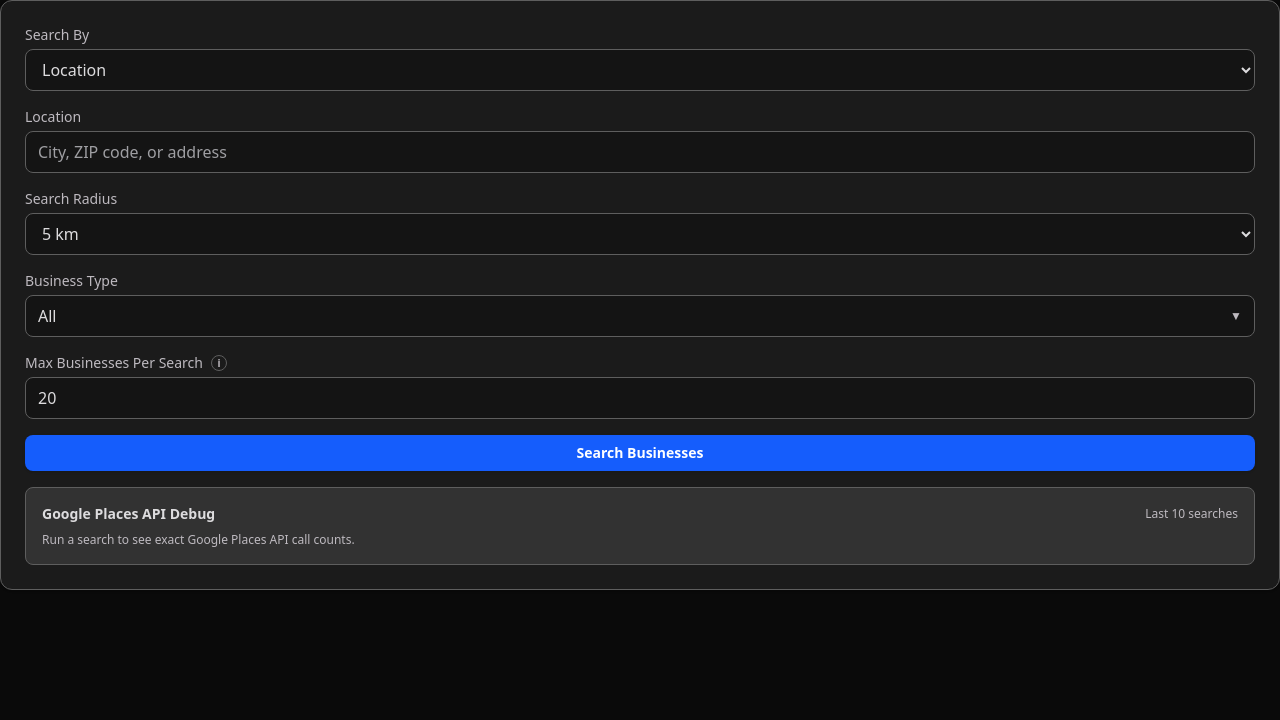
SearchForm › removes excluded business types from the search dropdown after filtered options load
Click the button with aria-label "business type" at (47, 316), box [25,295,1255,337]
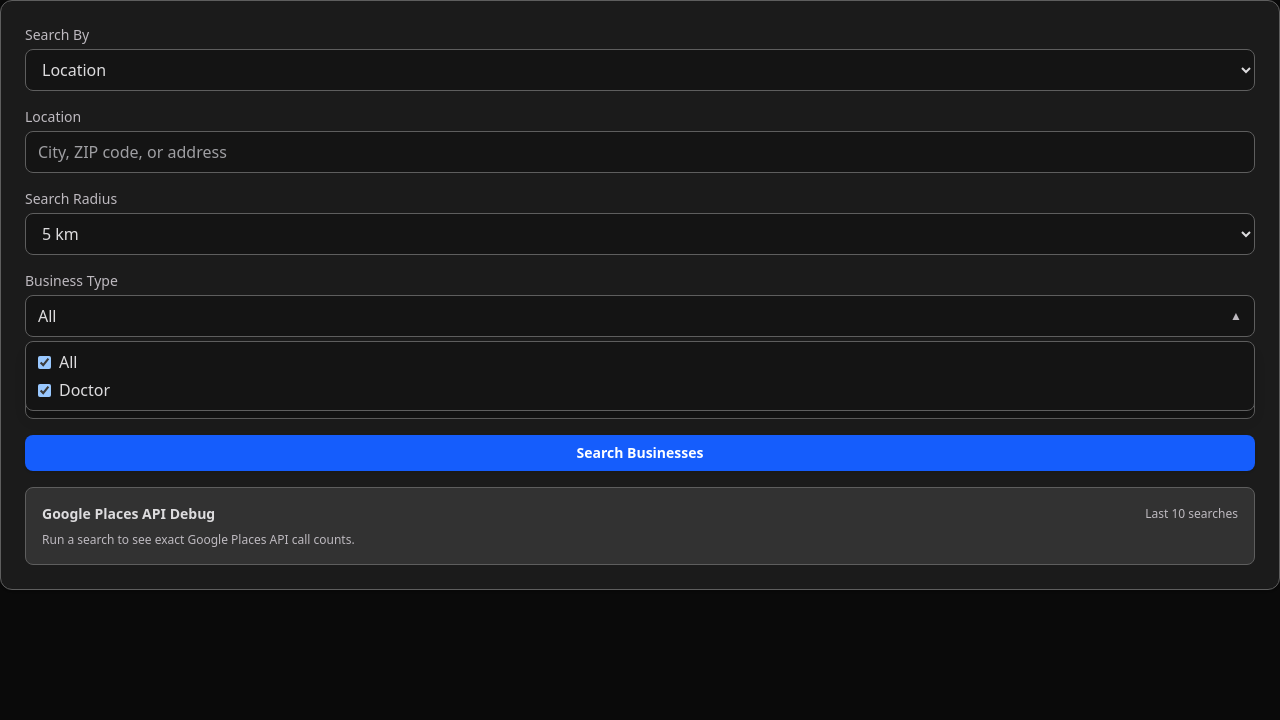
Expected: the button with aria-label "business type" is expanded, [25,295,1255,337]
Expected: the checkbox labelled "Doctor" is shown, [38,384,51,396]
